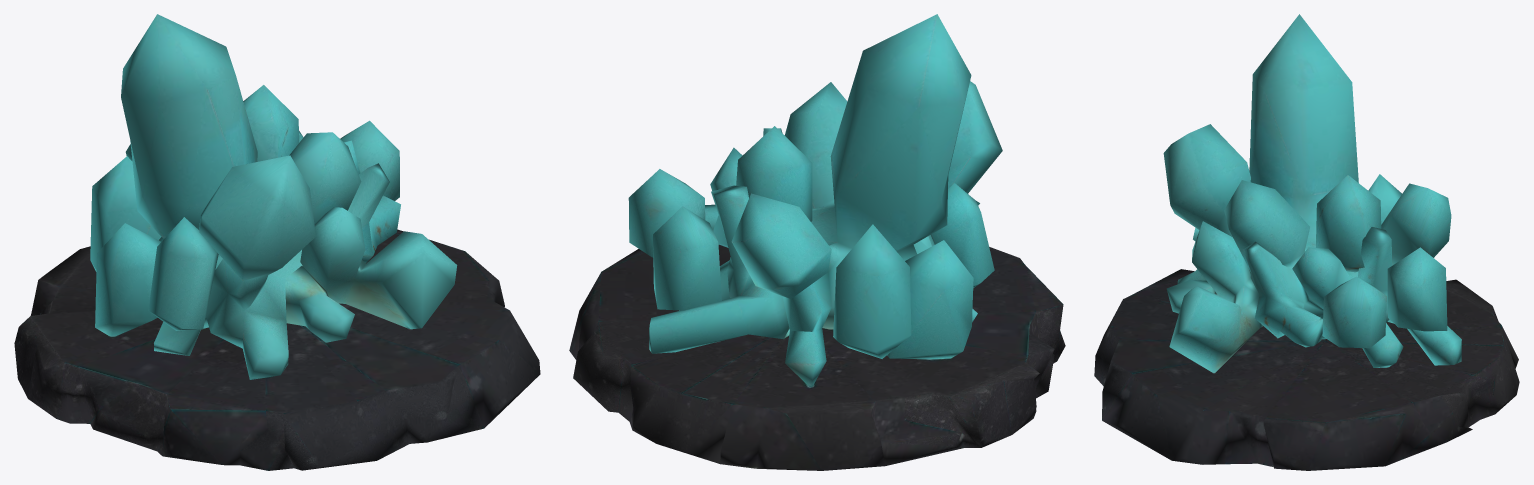
Rendered from mountains-crystal.glb.
The picture shows the model from 3 angles, left to right: view 1: azimuth 30°, elevation 25°; view 2: azimuth 150°, elevation 25°; view 3: azimuth 270°, elevation 25°; orthographic projection. The views are drawn at different scales.
Bounding box in the file's own units: 0.9653 × 0.7895 × 0.9414.
Materials: 1 (1 with a texture image).
